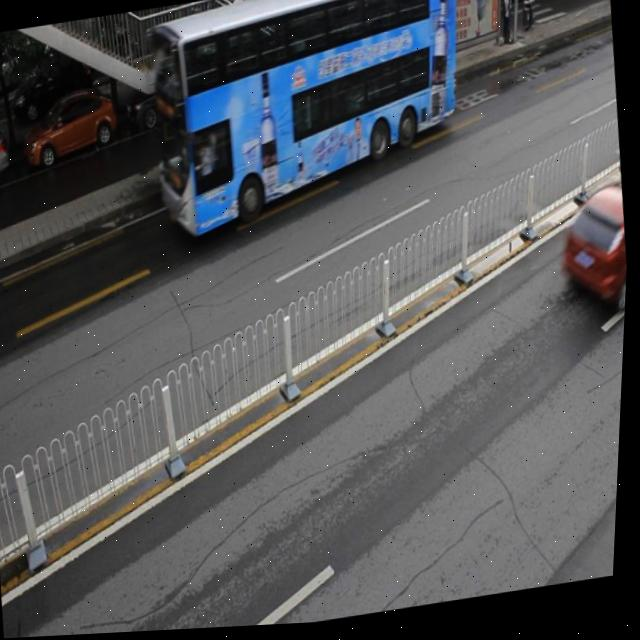car: (555, 186, 633, 320), (17, 87, 120, 174), (118, 58, 226, 132), (298, 2, 389, 77), (259, 41, 333, 122), (222, 25, 302, 98), (0, 126, 13, 189)
van: (135, 0, 477, 246)
